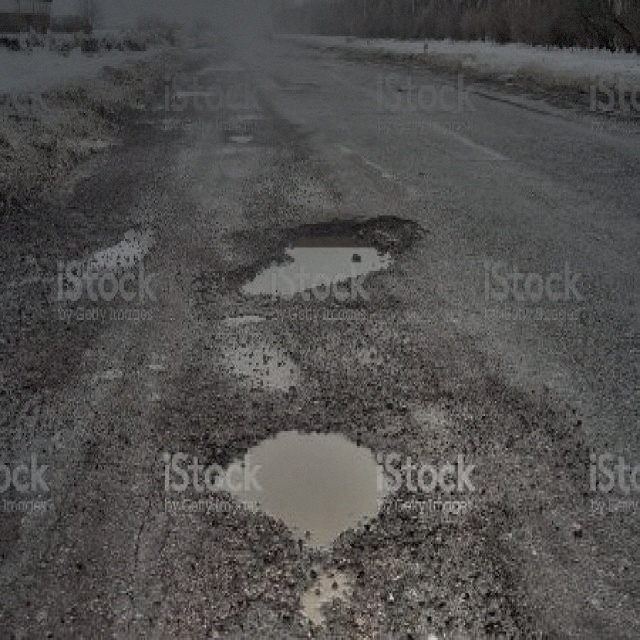pothole: (216, 420, 398, 546), (222, 209, 419, 301)
